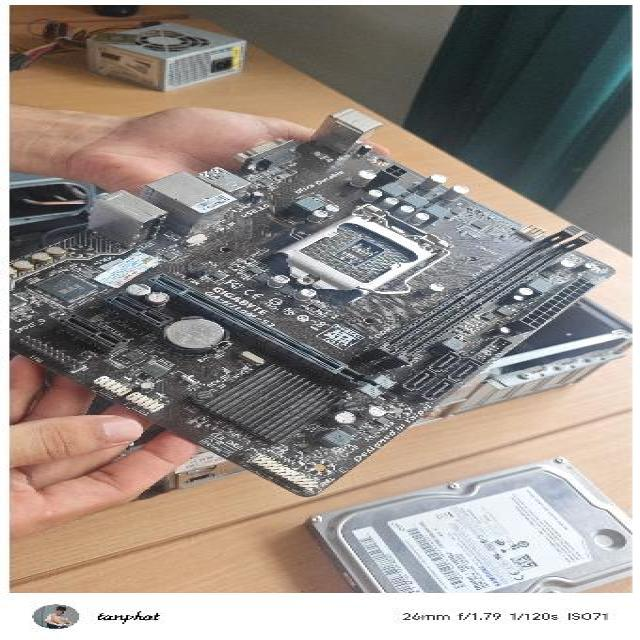DISK: (278, 453, 634, 593)
Mainboard: (9, 104, 620, 496)
PSU: (8, 7, 296, 94)
